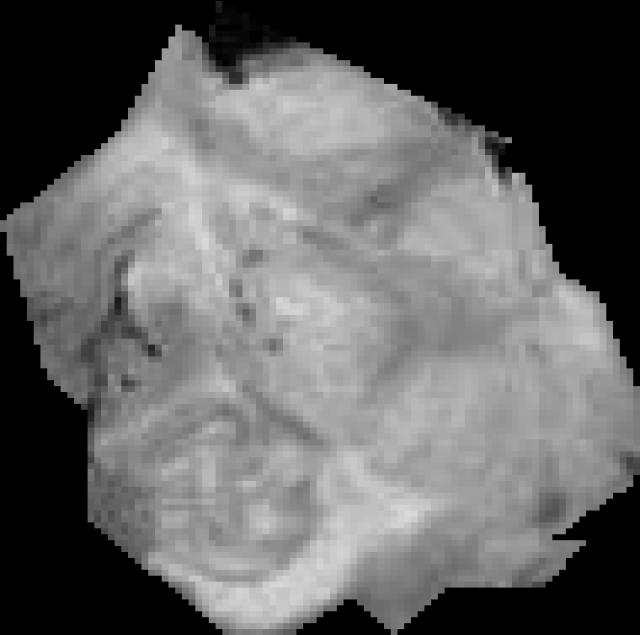tumor_less_chance: (0, 1, 640, 635)
